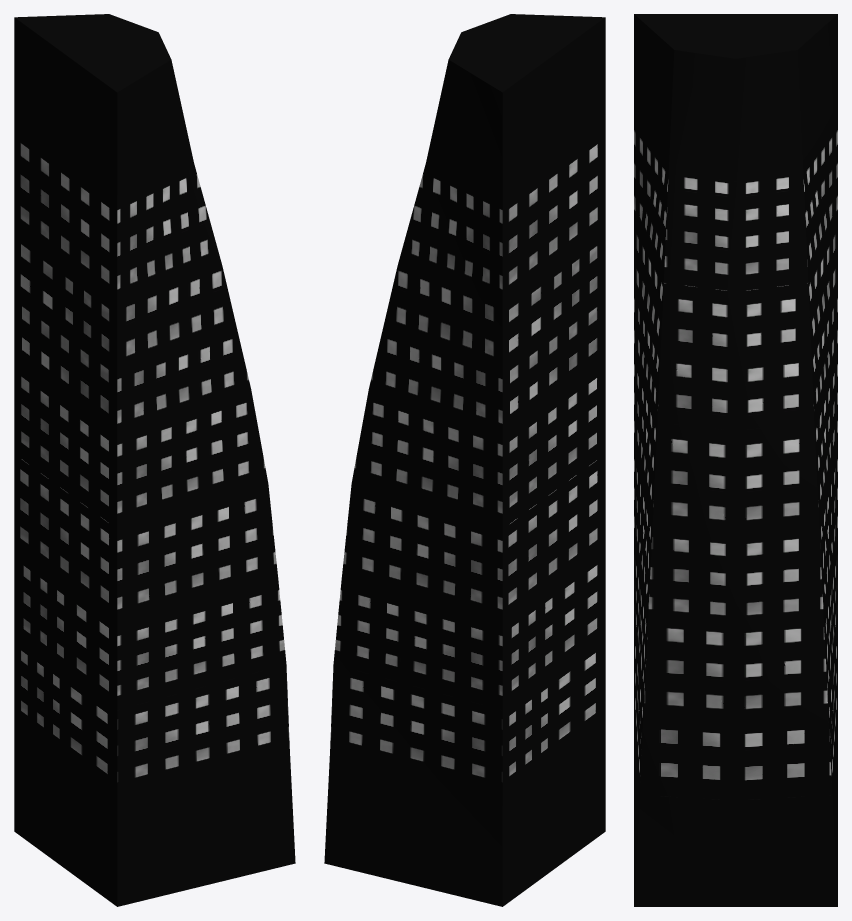
File: house05.dae
3 views of the same model, side by side, from view 1: azimuth 30°, elevation 25°; view 2: azimuth 150°, elevation 25°; view 3: azimuth 270°, elevation 25° (orthographic).
Visible parts, largest first — view 1: pCube2; view 2: pCube2; view 3: pCube2.
Part boxes in pixels (bbox=[...]): pCube2: bbox=[14, 14, 295, 906]; pCube2: bbox=[324, 14, 605, 906]; pCube2: bbox=[634, 14, 837, 906].
Size of the model in its own units: 32.74 by 136 by 31.21.
Materials: 1 (1 with a texture image).
